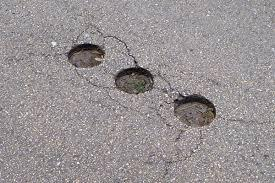pothole: (171, 92, 217, 131), (112, 64, 158, 96), (64, 42, 106, 69)
